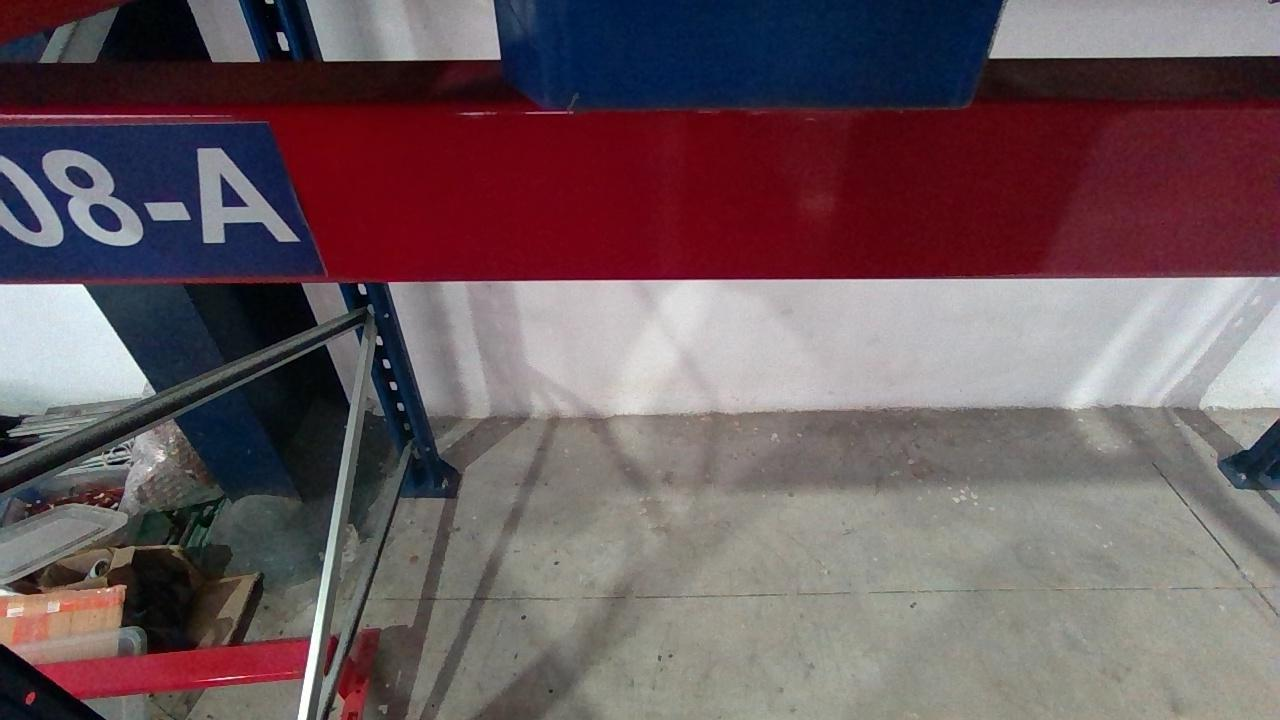h_rack: (0, 105, 1280, 282)
